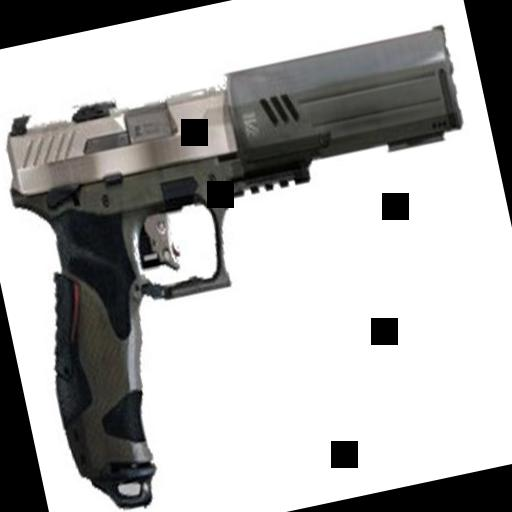Handgun: (0, 25, 512, 512)
